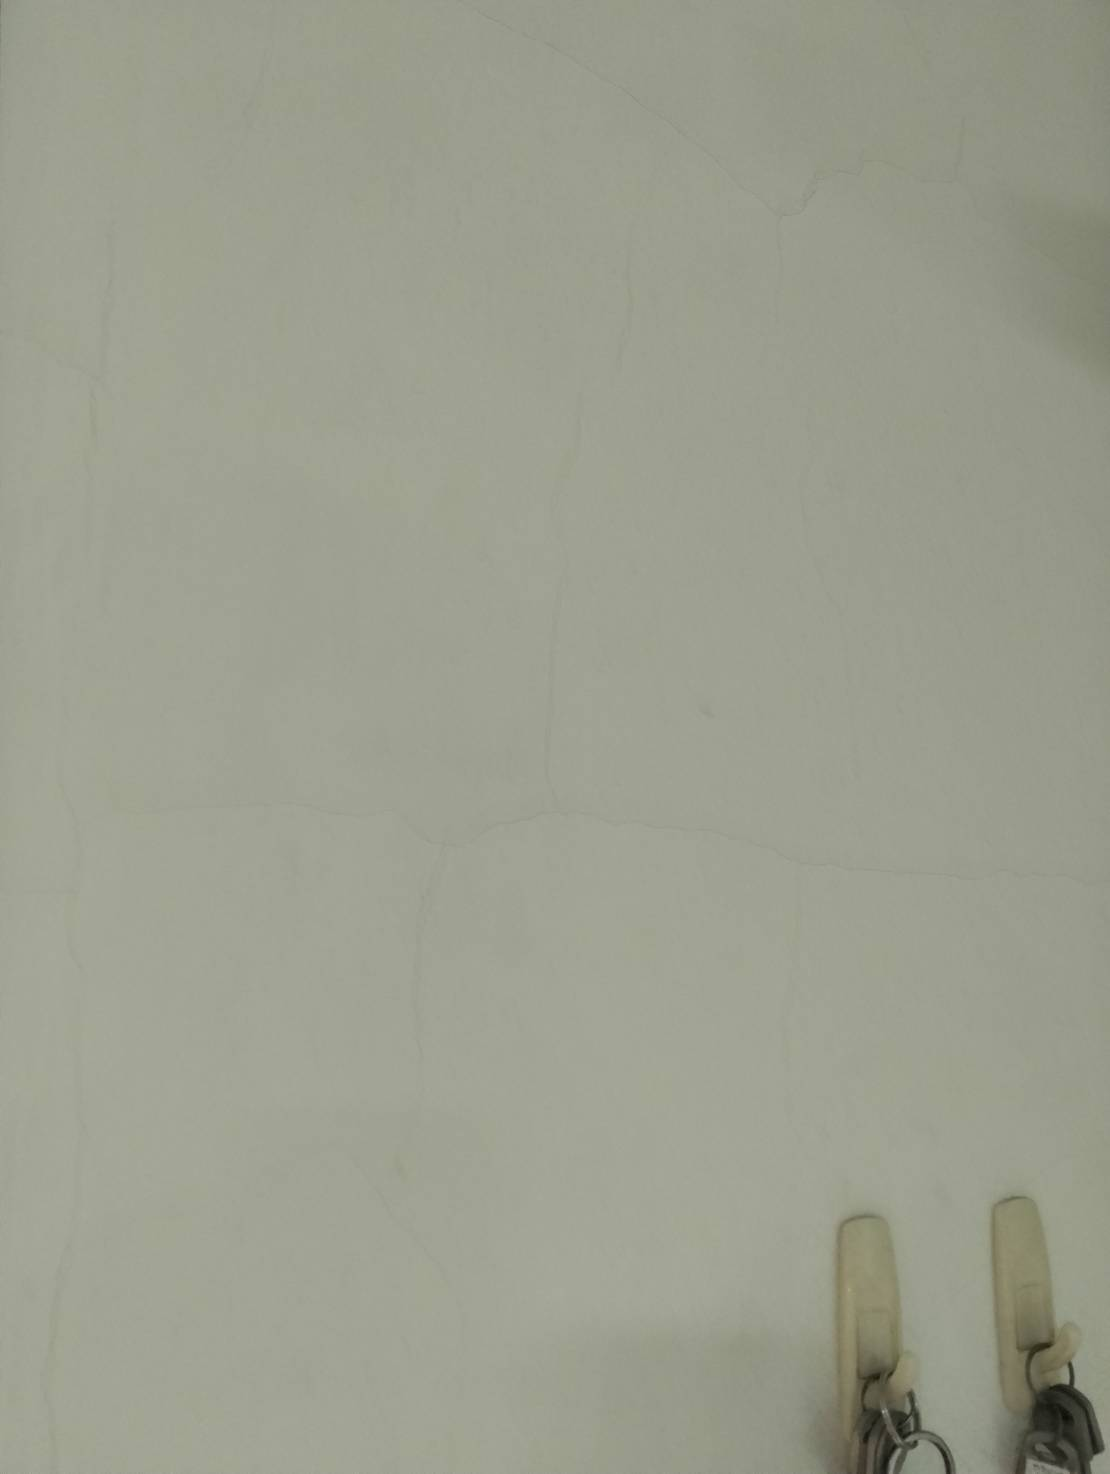Low: (101, 7, 1056, 1292)
